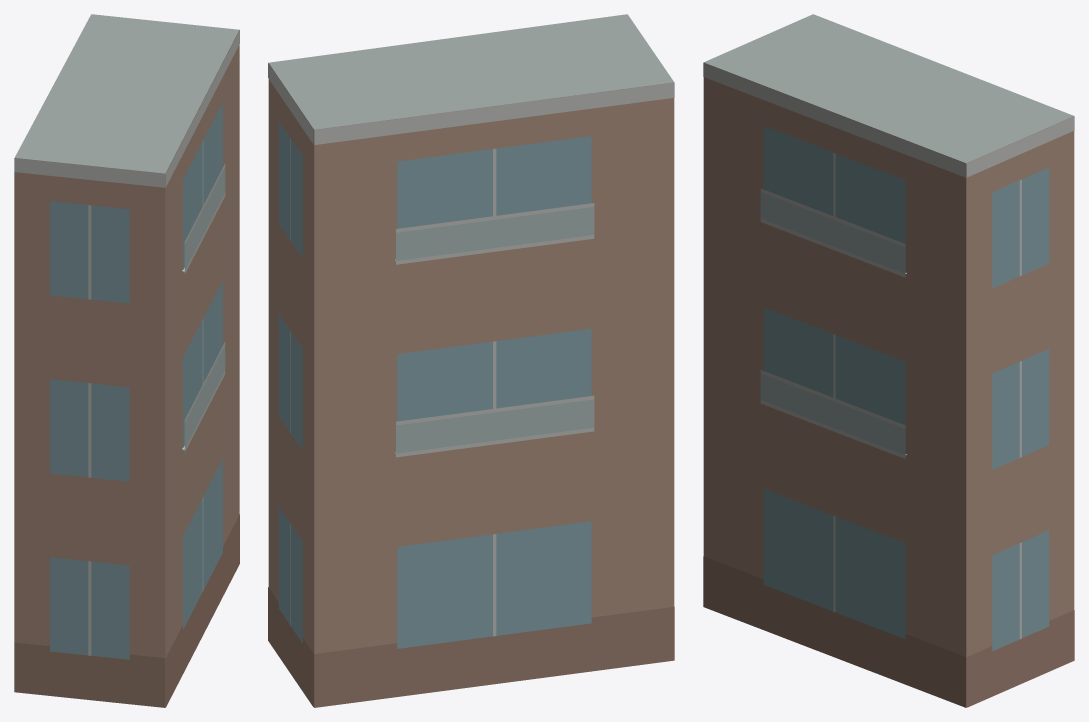
The model's file is survey-upis-32477108.glb.
The picture shows the model from 3 angles, left to right: view 1: azimuth 30°, elevation 25°; view 2: azimuth 150°, elevation 25°; view 3: azimuth 270°, elevation 25°; orthographic projection. The views are drawn at different scales.
Visible parts, largest first — view 1: survey-upis-32477108.tmp; view 2: survey-upis-32477108.tmp; view 3: survey-upis-32477108.tmp.
Boxes of the visible parts, <box> form: survey-upis-32477108.tmp: <box>14,14,239,707</box>; survey-upis-32477108.tmp: <box>268,14,674,707</box>; survey-upis-32477108.tmp: <box>703,14,1074,707</box>.
Bounding box in the file's own units: 5.39 × 9.15 × 5.66.
